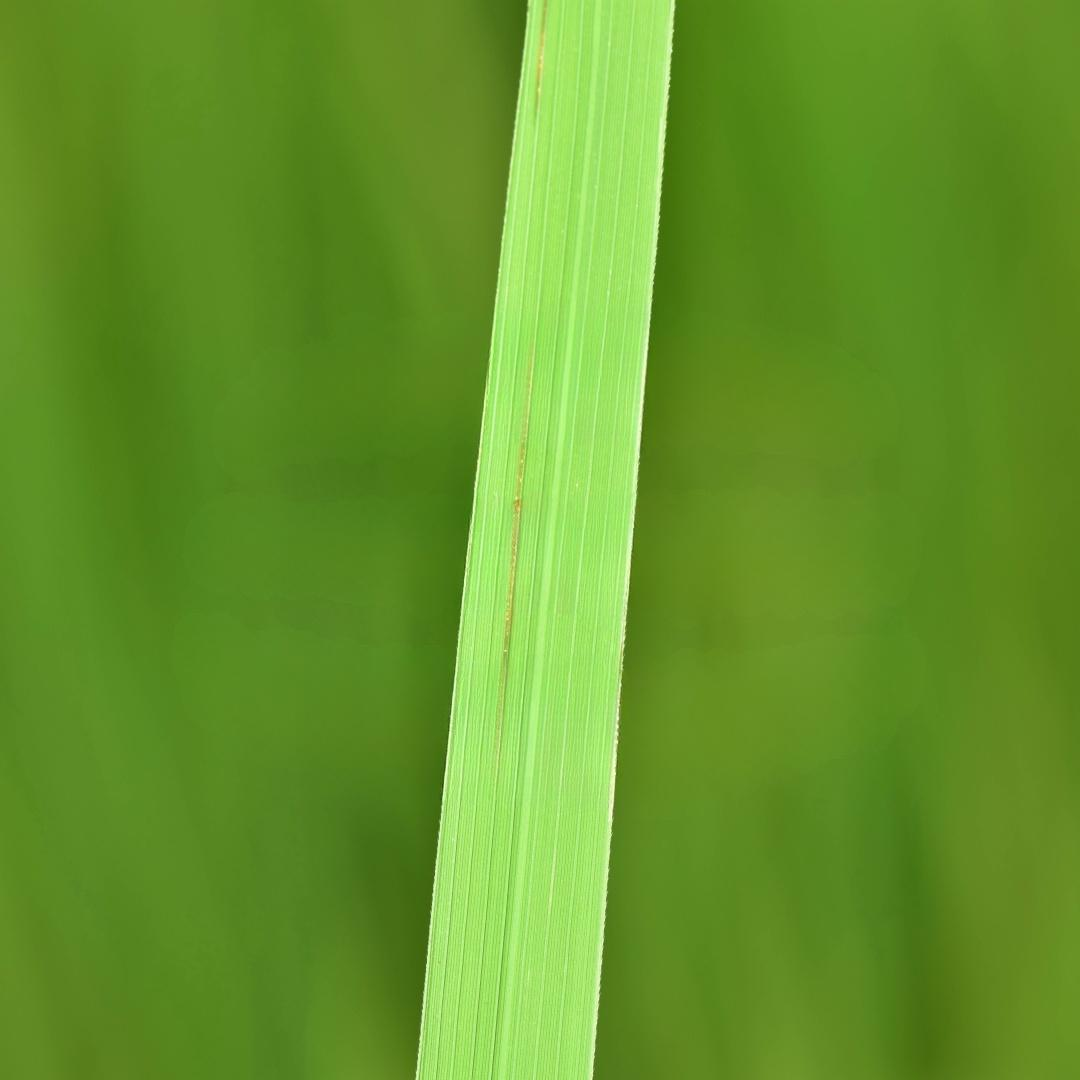BLS: (492, 339, 532, 780), (534, 0, 547, 133)
LEAF: (417, 0, 672, 1079)
